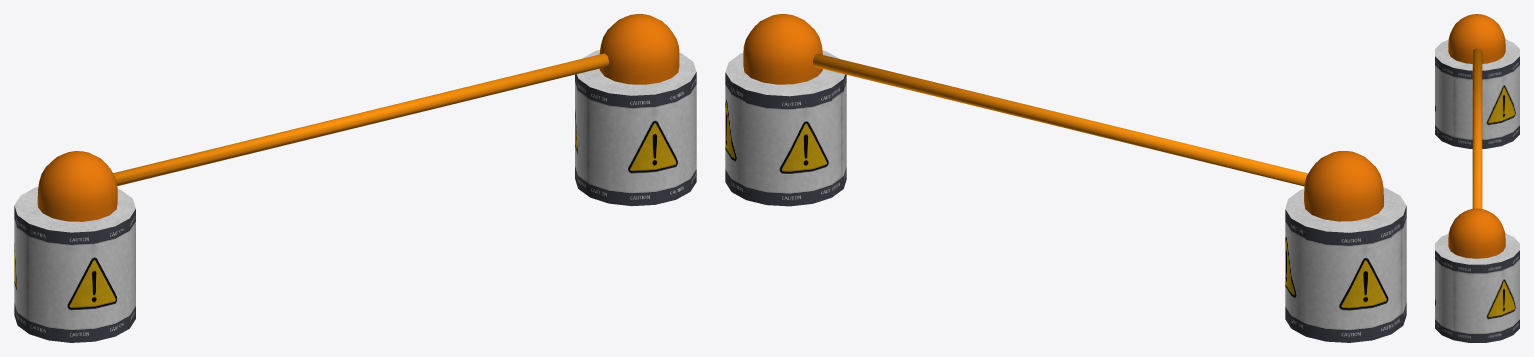
File: Road_Blocker_Orange.fbx
3 renders of one model, left to right at view 1: azimuth 30°, elevation 25°; view 2: azimuth 150°, elevation 25°; view 3: azimuth 270°, elevation 25°, orthographic. The views are drawn at different scales.
Visible parts, largest first — view 1: Road_Blocker_Orange.001; view 2: Road_Blocker_Orange.001; view 3: Road_Blocker_Orange.001.
Boxes of the visible parts, x1=… form: Road_Blocker_Orange.001: x1=14, y1=14, x2=696, y2=342; Road_Blocker_Orange.001: x1=725, y1=14, x2=1406, y2=342; Road_Blocker_Orange.001: x1=1435, y1=14, x2=1519, y2=342.
Bounding box in the file's own units: 144 × 33.62 × 22.41.
3 materials, 1 textured.
